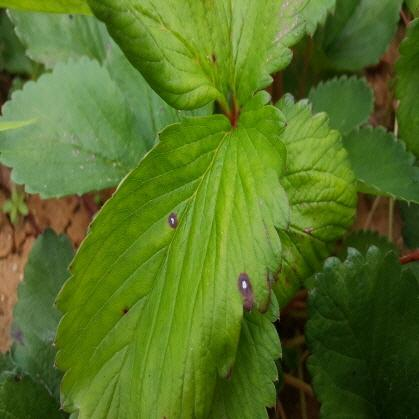Leaf Spot: (51, 105, 290, 418), (84, 0, 312, 118), (274, 92, 360, 312), (7, 226, 75, 401), (5, 7, 111, 70), (0, 364, 67, 418)
